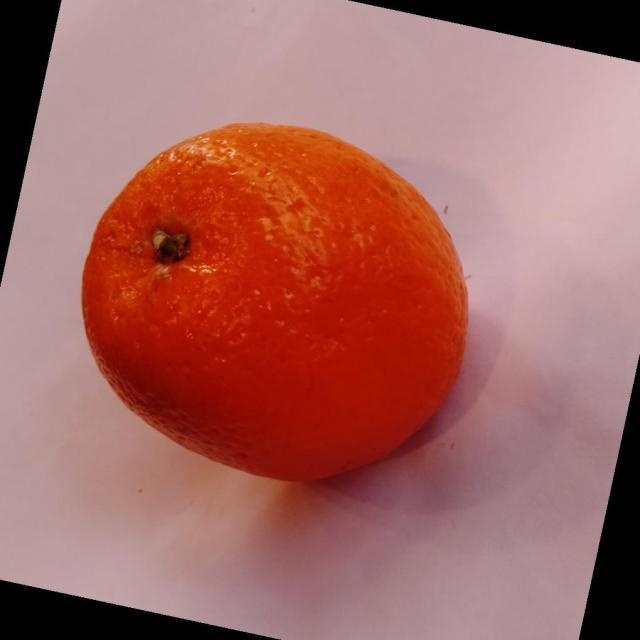agrume: (80, 120, 469, 483)
